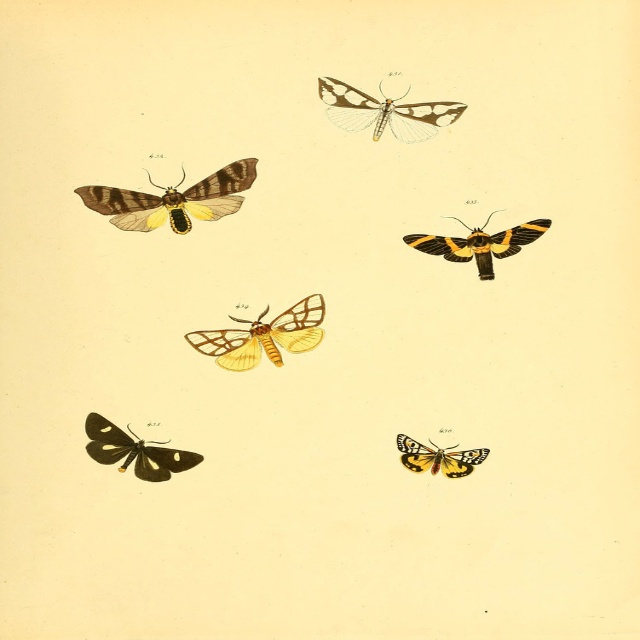Butterfly: (77, 157, 261, 236), (310, 70, 471, 149), (400, 207, 553, 286), (179, 289, 322, 371), (81, 413, 212, 481), (386, 426, 495, 480)
